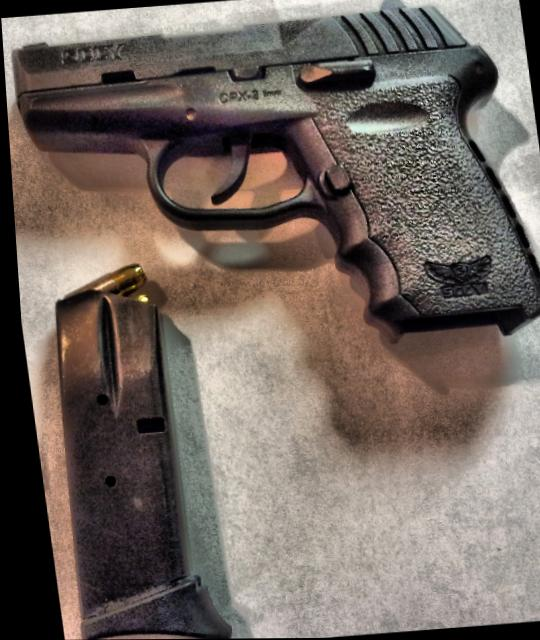pistol: (4, 0, 540, 382)
